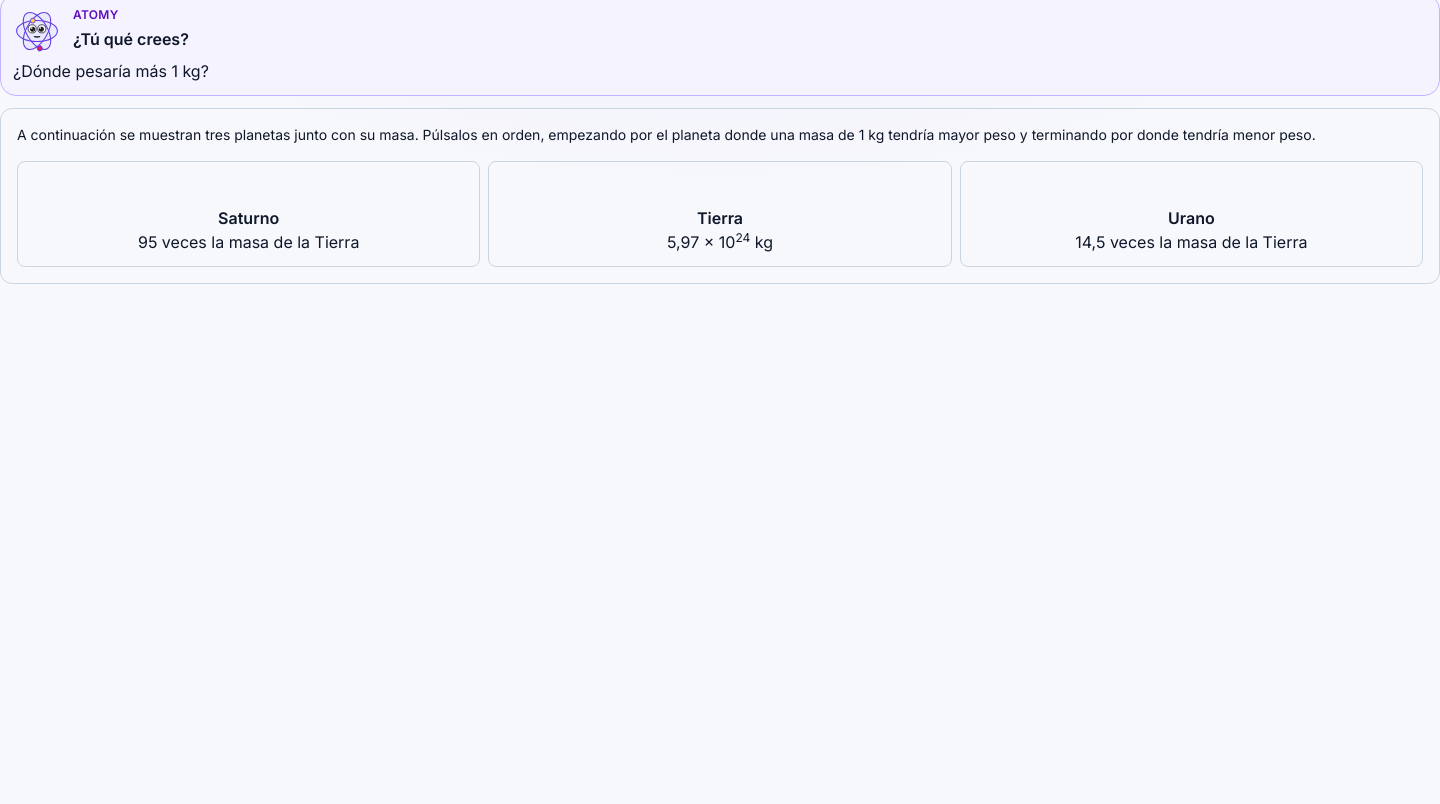
PlanetRanking › tells the reader the right order when they missed it, and explains why
Click the button "Tierra 5,97 × 1024 kg" at (720, 214), box [488,161,952,267]
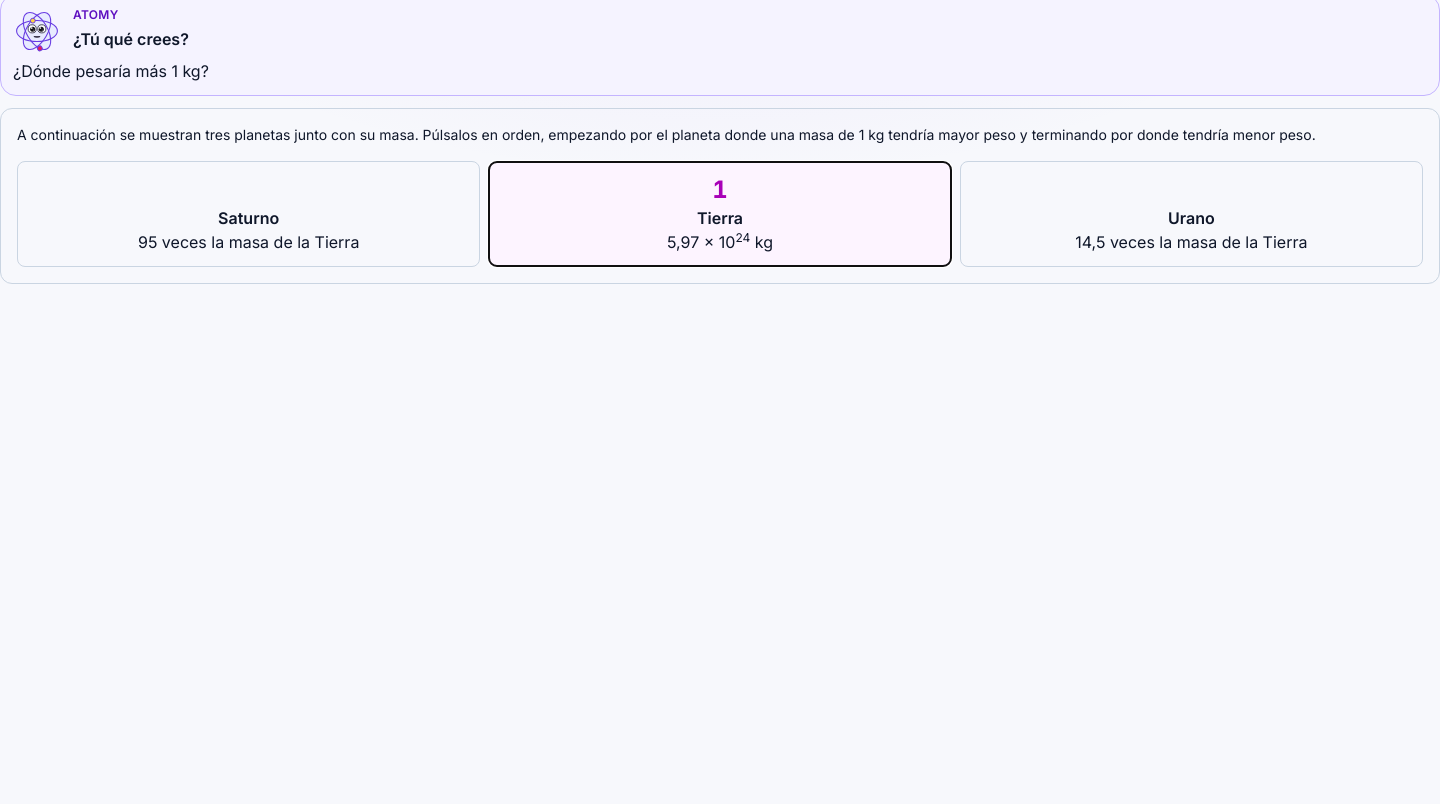
Click the button "Saturno 95 veces la masa de la Tierra" at (249, 214), box [17,161,480,267]
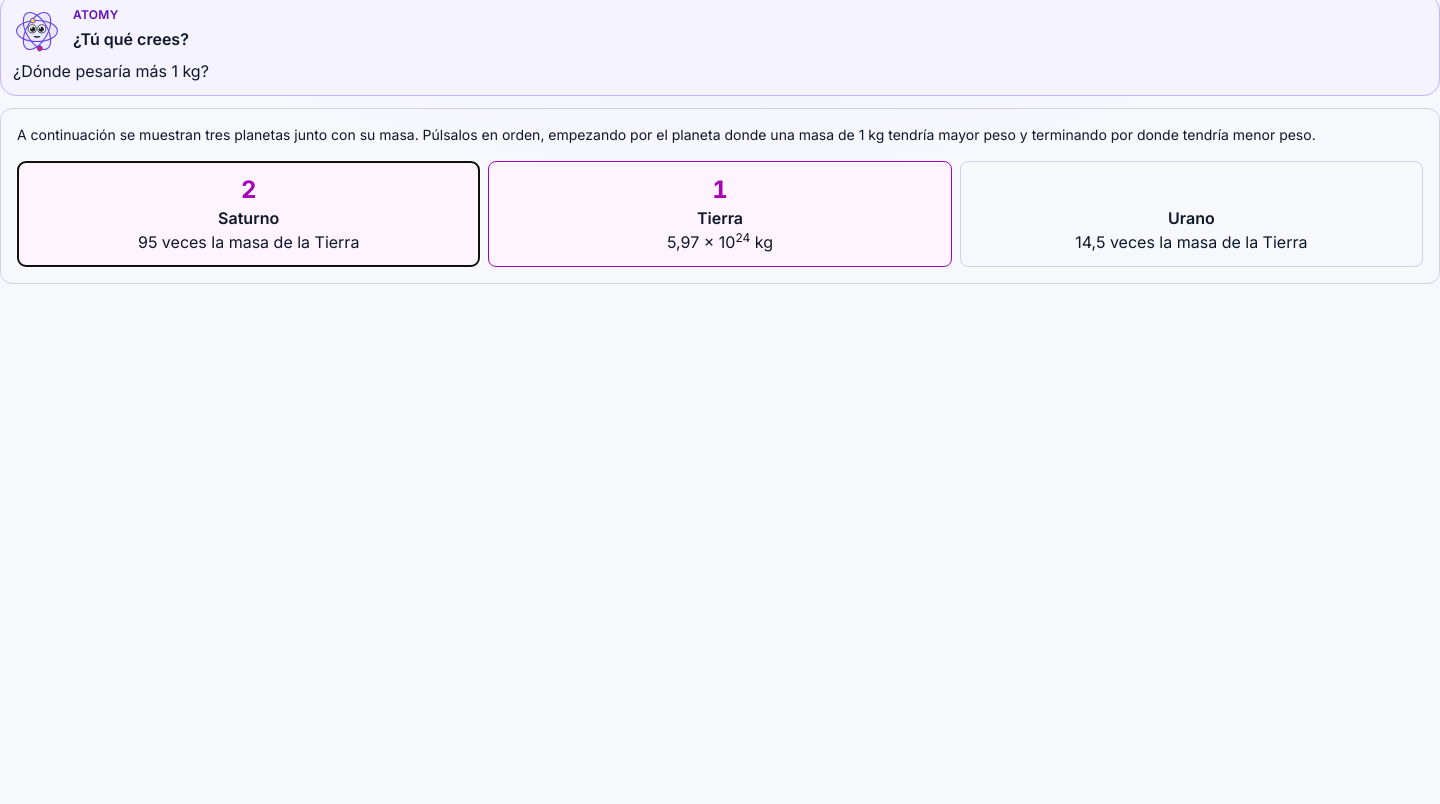
Click the button "Urano 14,5 veces la masa de la Tierra" at (1191, 214), box [960,161,1423,267]
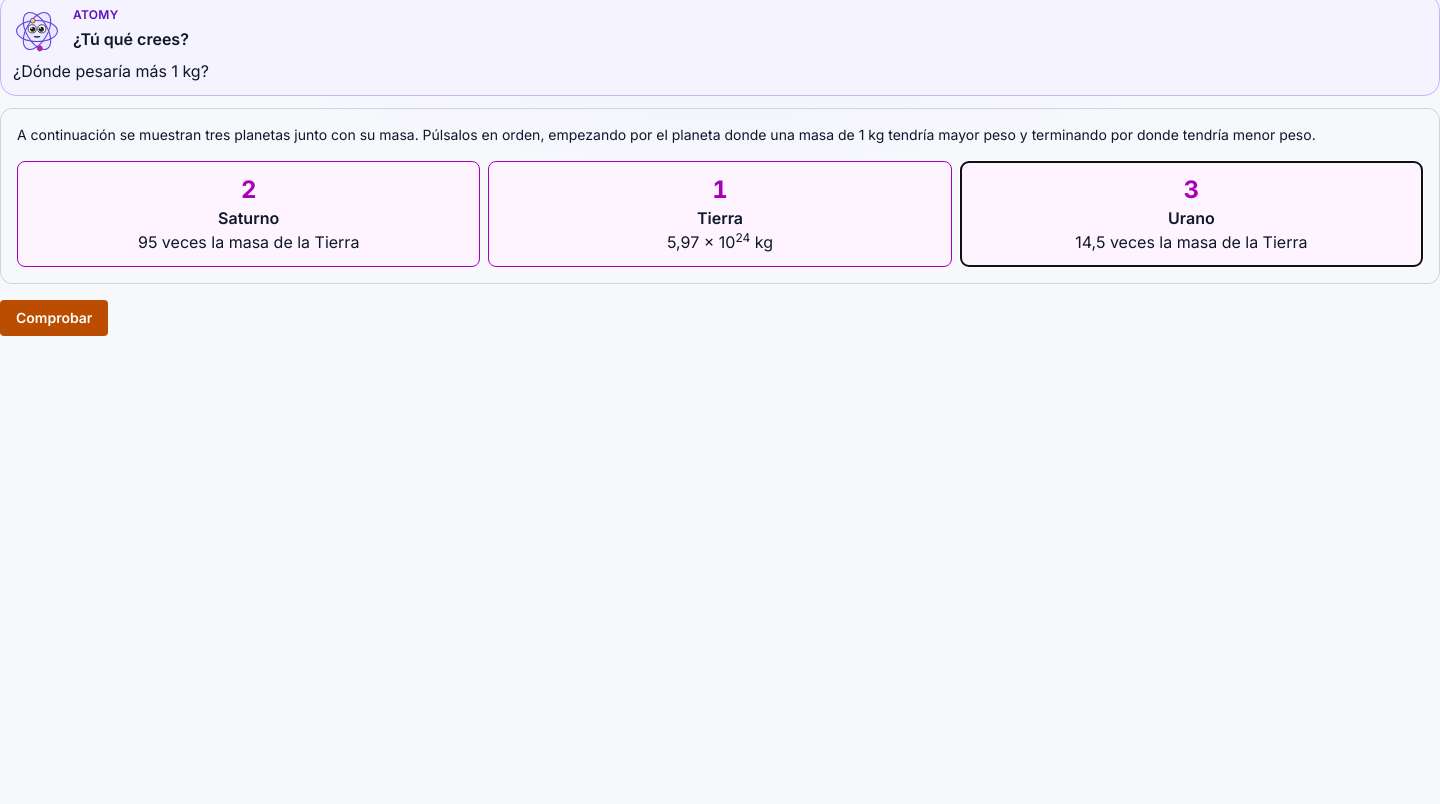
Click the button "Comprobar" at (54, 318), box [0,300,108,336]
(page scrolled)
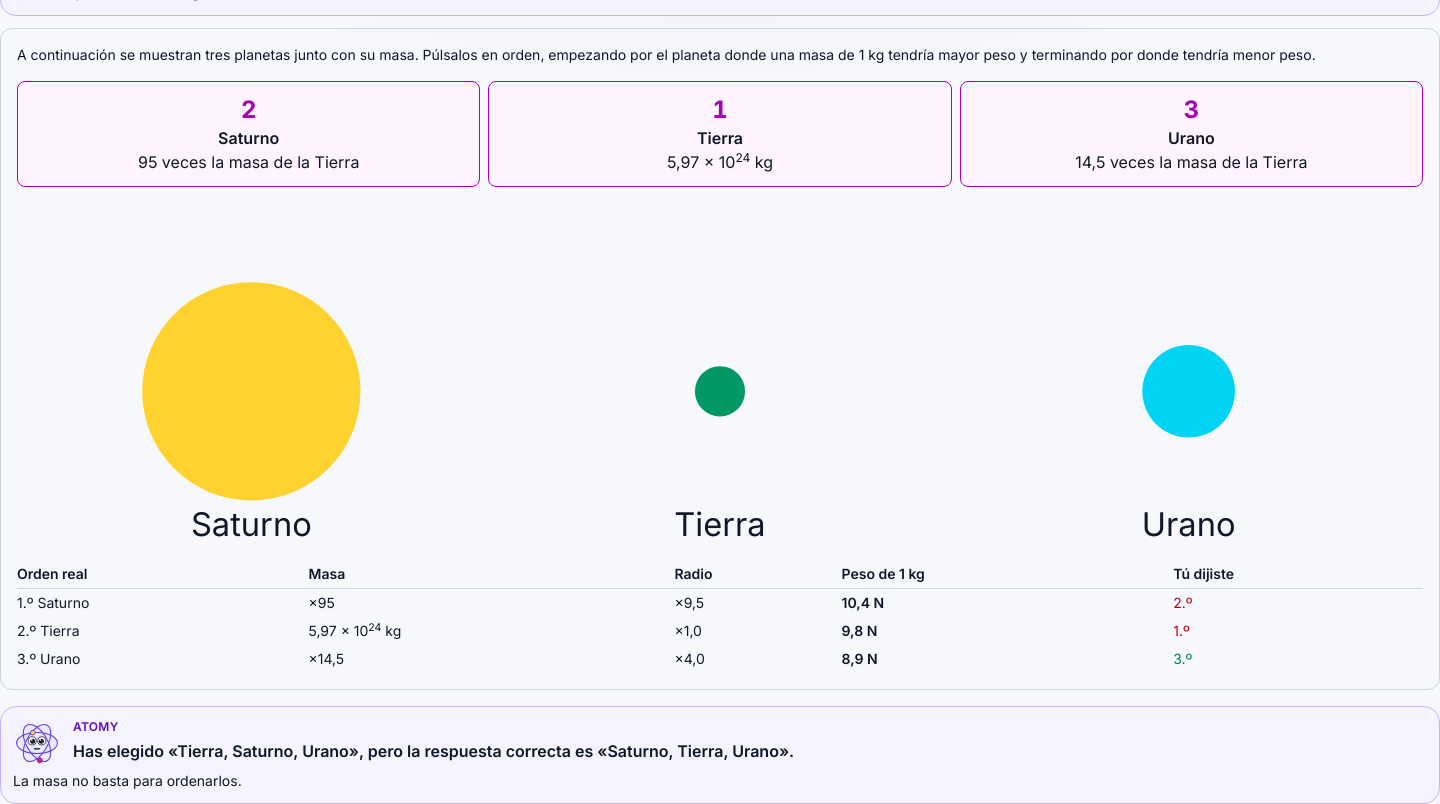
Now the message shows "Has elegido «Tierra, Saturno, Urano», pero la respuesta correcta es «Saturno, Tierra, Urano».", box [73,741,794,761]
Now the message shows "La masa no basta para ordenarlos.", box [13,772,242,789]
